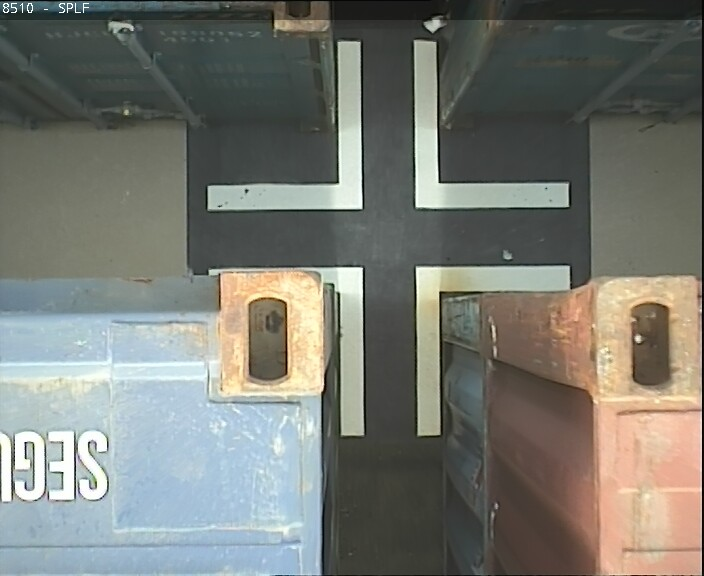groundmarker_1: (203, 43, 571, 214), (323, 267, 574, 437)
